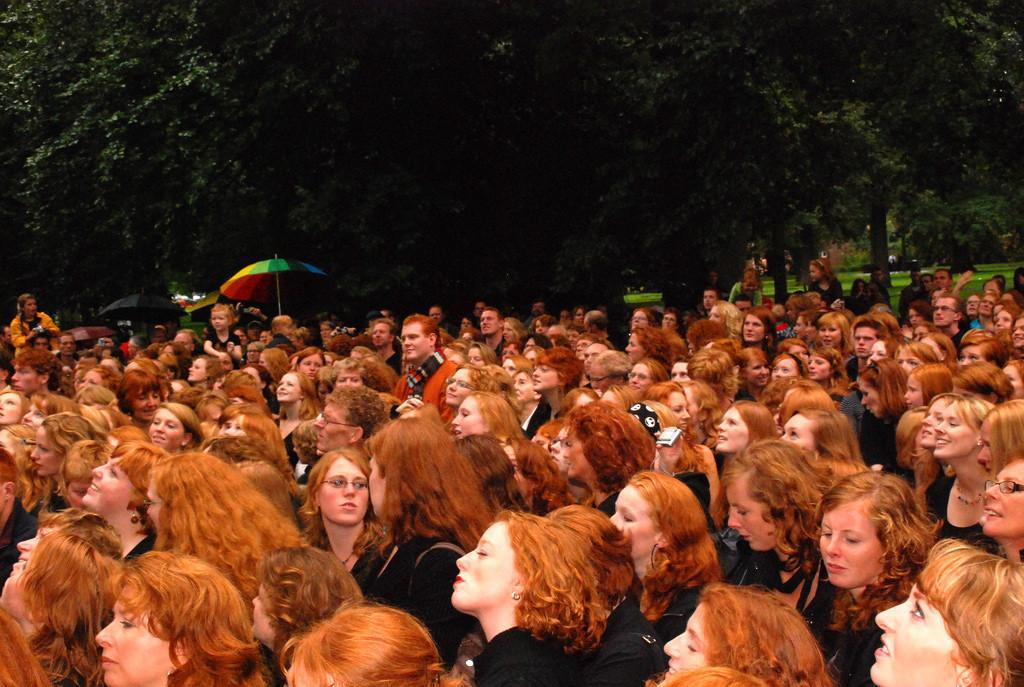face: (870, 582, 983, 686), (96, 589, 171, 687), (452, 524, 517, 609), (664, 606, 731, 687), (820, 507, 879, 589), (726, 480, 782, 551), (17, 521, 75, 580), (1, 555, 65, 607), (609, 489, 657, 557), (369, 449, 414, 519), (148, 482, 201, 541), (321, 460, 369, 525), (83, 459, 140, 511), (251, 580, 303, 637), (983, 466, 1024, 537), (978, 423, 1020, 479), (934, 409, 977, 458), (564, 429, 602, 480), (314, 404, 351, 452), (552, 425, 588, 472), (780, 418, 815, 465), (919, 401, 952, 447), (22, 400, 60, 439), (715, 410, 749, 452), (452, 397, 483, 441), (150, 410, 184, 449), (31, 433, 60, 477), (659, 393, 691, 430), (129, 382, 160, 420), (446, 370, 479, 405), (861, 379, 887, 420), (905, 378, 932, 415), (13, 363, 41, 398), (401, 325, 429, 360), (672, 362, 698, 395), (1001, 365, 1024, 402), (960, 349, 988, 379), (1, 461, 14, 525), (226, 416, 250, 449), (532, 363, 557, 392), (294, 433, 317, 464), (629, 364, 652, 395), (79, 371, 105, 398), (68, 482, 93, 510), (625, 335, 649, 364), (585, 346, 608, 376), (746, 356, 769, 386), (218, 417, 240, 448), (337, 370, 362, 397), (772, 360, 797, 387), (511, 373, 534, 402), (933, 299, 956, 328), (277, 375, 301, 402), (855, 328, 877, 357), (535, 436, 555, 466), (896, 351, 920, 376), (300, 354, 323, 380), (1, 395, 20, 425), (744, 316, 765, 343), (868, 342, 889, 369), (786, 346, 808, 370), (318, 381, 338, 407), (819, 325, 841, 348), (241, 368, 261, 392), (808, 357, 828, 381), (994, 313, 1014, 336), (480, 312, 499, 336), (372, 324, 389, 347), (468, 350, 485, 373), (187, 361, 205, 382), (576, 339, 593, 360), (175, 334, 191, 356), (523, 339, 540, 359), (794, 317, 809, 339), (1012, 321, 1024, 348), (503, 346, 519, 366), (502, 361, 518, 381), (914, 330, 930, 350), (160, 367, 176, 386), (978, 296, 994, 315), (568, 331, 583, 351), (75, 372, 89, 393), (665, 306, 679, 327), (212, 313, 228, 331), (632, 312, 648, 330), (736, 301, 752, 319), (864, 285, 880, 303), (60, 337, 75, 356), (319, 356, 333, 376), (259, 354, 272, 375), (710, 306, 723, 327), (214, 376, 231, 392), (934, 272, 950, 289), (164, 347, 178, 366), (503, 323, 516, 343), (806, 320, 819, 340), (967, 297, 980, 317), (292, 358, 306, 376), (524, 352, 538, 370), (662, 315, 677, 331), (35, 338, 49, 355), (909, 311, 923, 328), (744, 274, 757, 292), (985, 285, 1000, 300), (378, 311, 392, 327), (25, 299, 38, 316), (320, 324, 333, 341), (352, 353, 365, 370), (931, 292, 944, 309), (202, 327, 215, 344), (704, 291, 716, 309), (560, 310, 572, 328), (444, 350, 459, 364), (584, 318, 597, 334), (809, 266, 822, 282), (279, 320, 292, 335), (429, 308, 441, 324), (220, 357, 232, 372), (787, 306, 799, 321), (247, 345, 258, 361), (63, 368, 73, 385), (249, 326, 261, 340), (235, 332, 247, 346), (476, 302, 487, 317), (575, 310, 586, 325), (128, 343, 140, 356), (921, 278, 932, 292), (536, 322, 548, 334), (992, 278, 1005, 289), (290, 337, 301, 349), (461, 319, 472, 331), (533, 305, 545, 316), (709, 273, 719, 286), (3, 329, 12, 343), (463, 334, 473, 346), (260, 333, 269, 344), (1017, 273, 1024, 286), (912, 272, 920, 283), (874, 272, 882, 281), (856, 284, 864, 293), (250, 309, 260, 316), (156, 329, 164, 337)
